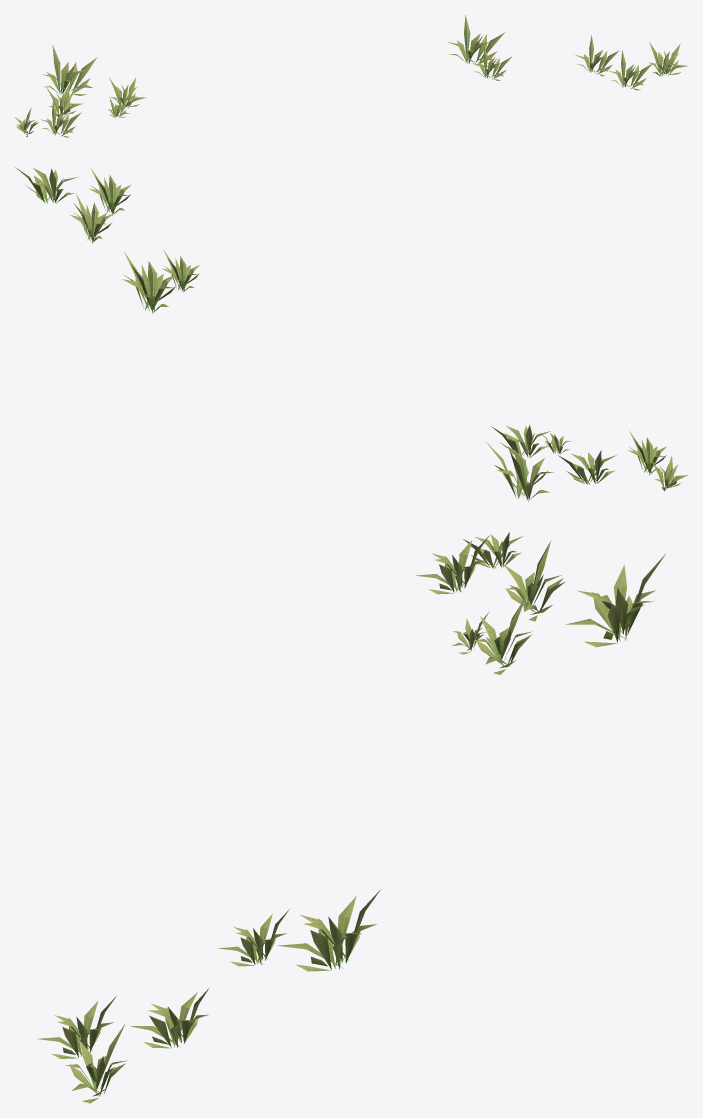
File: area_09_8.fbx
The picture shows the model from 3 angles, top to bottom: view 1: azimuth 30°, elevation 25°; view 2: azimuth 150°, elevation 25°; view 3: azimuth 270°, elevation 25°; orthographic projection. The views are drawn at different scales.
Visible parts, largest first — view 1: area_09_8; view 2: area_09_8; view 3: area_09_8.
Part boxes in pixels (x1,y1,x2,y2): area_09_8: (15, 15, 687, 137); area_09_8: (15, 167, 688, 502); area_09_8: (37, 532, 665, 1103).
Size of the model in its own units: 17.39 by 1.23 by 8.34.
